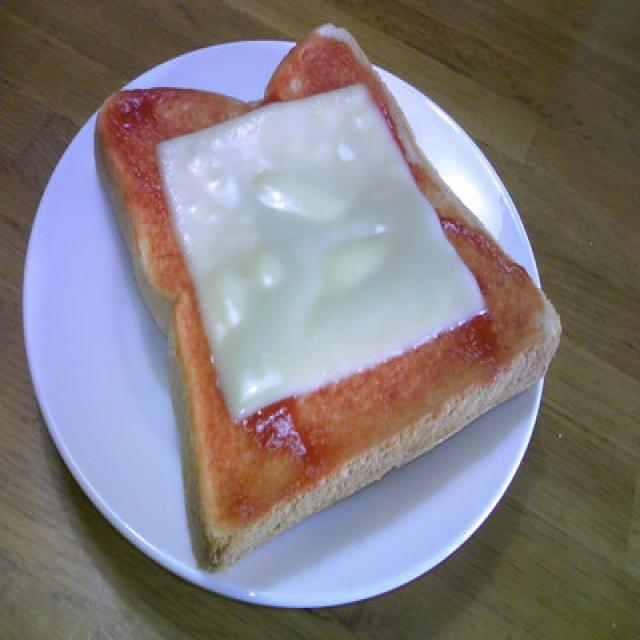面包点心: (0, 1, 569, 618)
